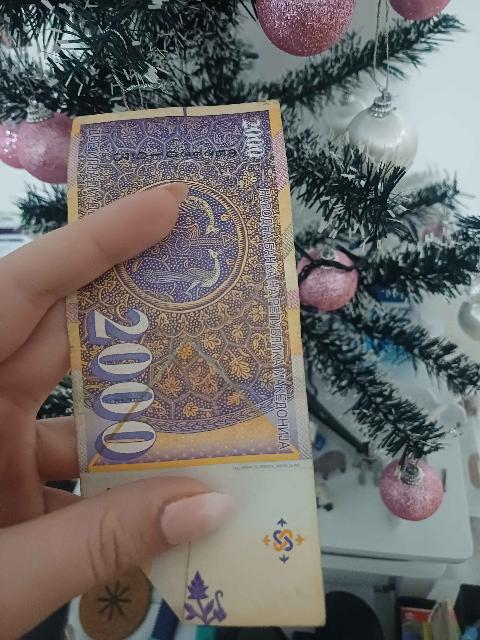note: (68, 102, 323, 625)
